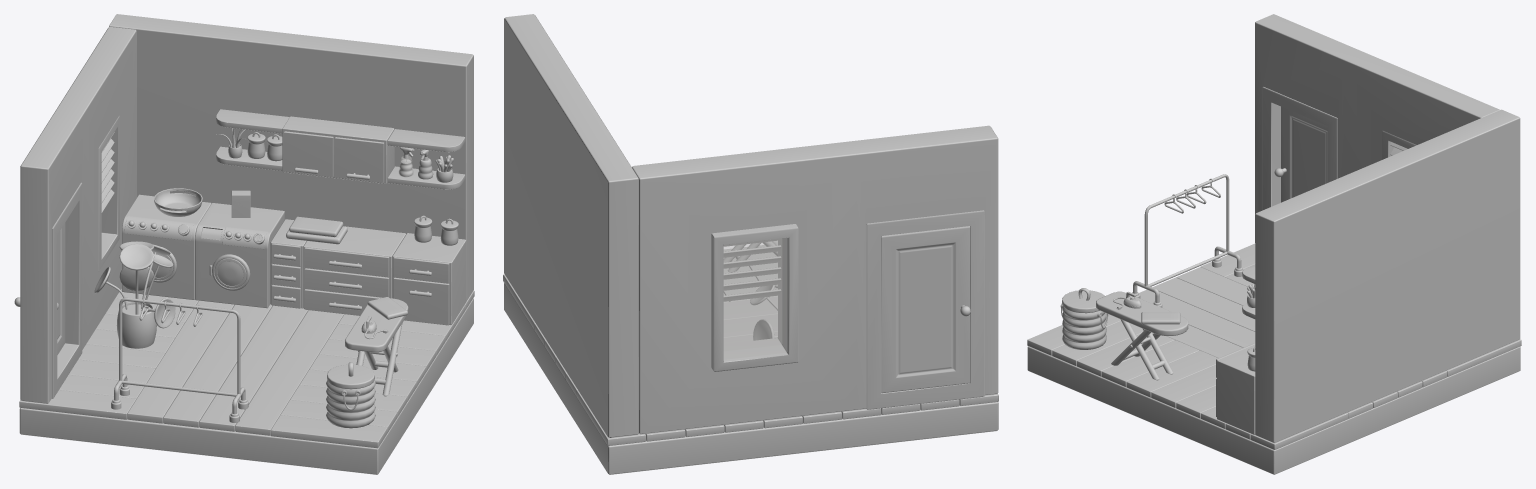
The model's file is Laundry_34.fbx.
3 renders of one model, left to right at view 1: azimuth 30°, elevation 25°; view 2: azimuth 150°, elevation 25°; view 3: azimuth 270°, elevation 25°, orthographic. The views are drawn at different scales.
Visible parts, largest first — view 1: Room_34_Wall_1, Room_34_Floor_2, Room_34_Wall_2, Room_34_Floor_1, Room_34_Washing_machine_1, Room_34_Cabinet_1, Room_34_Cabinet_3, Room_34_Cabinet_4, Room_34_Door_1, Room_34_Drying_machine_1, Room_34_Plant_1, Room_34_Laundry_Basket_1 (+13 smaller); view 2: Room_34_Wall_2, Room_34_Wall_1, Room_34_Door_1, Room_34_Floor_1, Room_34_Window_1, Room_34_Floor_2, Room_34_Plant_1; view 3: Room_34_Wall_1, Room_34_Wall_2, Room_34_Floor_2, Room_34_Floor_1, Room_34_Door_1, Room_34_Cabinet_4, Room_34_Ironing_board_1, Room_34_Laundry_Basket_1, Room_34_Floor_hanger_1, Room_34_Window_1, Room_34_Towel_3.
Boxes of the visible parts, bbox=[...] form: Room_34_Wall_1: bbox=[109, 14, 473, 300]; Room_34_Floor_2: bbox=[19, 289, 474, 448]; Room_34_Wall_2: bbox=[20, 26, 136, 403]; Room_34_Floor_1: bbox=[19, 298, 473, 474]; Room_34_Washing_machine_1: bbox=[195, 203, 284, 308]; Room_34_Cabinet_1: bbox=[303, 226, 406, 315]; Room_34_Cabinet_3: bbox=[282, 116, 394, 183]; Room_34_Cabinet_4: bbox=[392, 233, 466, 325]; Room_34_Door_1: bbox=[14, 182, 82, 398]; Room_34_Drying_machine_1: bbox=[121, 194, 211, 299]; Room_34_Plant_1: bbox=[94, 241, 175, 348]; Room_34_Laundry_Basket_1: bbox=[326, 362, 375, 428]; Room_34_Wall_2: bbox=[632, 125, 998, 434]; Room_34_Wall_1: bbox=[504, 14, 638, 437]; Room_34_Door_1: bbox=[866, 210, 984, 409]; Room_34_Floor_1: bbox=[504, 283, 998, 474]; Room_34_Window_1: bbox=[711, 224, 798, 371]; Room_34_Floor_2: bbox=[503, 245, 998, 445]; Room_34_Plant_1: bbox=[750, 284, 777, 340]; Room_34_Wall_1: bbox=[1255, 109, 1520, 443]; Room_34_Wall_2: bbox=[1255, 14, 1499, 242]; Room_34_Floor_2: bbox=[1027, 243, 1521, 449]; Room_34_Floor_1: bbox=[1027, 346, 1520, 474]; Room_34_Door_1: bbox=[1262, 87, 1337, 210]; Room_34_Cabinet_4: bbox=[1216, 343, 1255, 434]; Room_34_Ironing_board_1: bbox=[1096, 291, 1188, 380]; Room_34_Laundry_Basket_1: bbox=[1060, 288, 1108, 349]; Room_34_Floor_hanger_1: bbox=[1132, 174, 1243, 307]; Room_34_Window_1: bbox=[1382, 130, 1416, 159]; Room_34_Towel_3: bbox=[1141, 312, 1180, 324].
Size of the model in its own units: 706 by 401 by 706.
